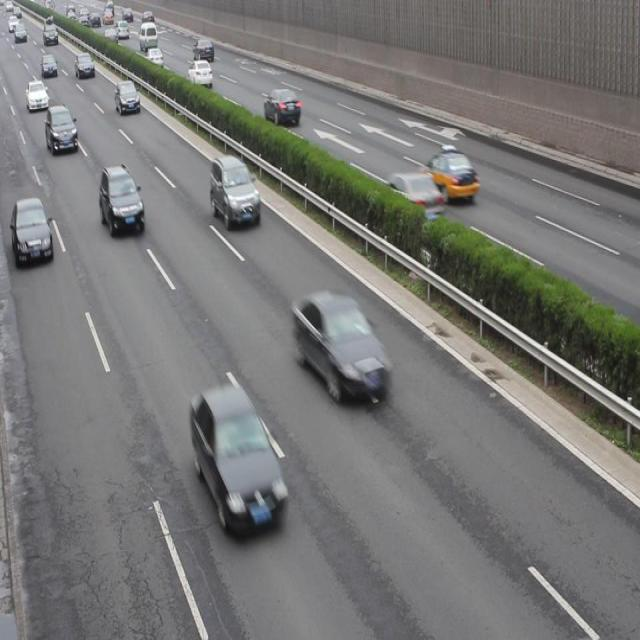car: (189, 380, 284, 536), (292, 288, 389, 403), (209, 153, 260, 227), (381, 169, 442, 229), (99, 164, 144, 237), (423, 148, 478, 205), (10, 196, 54, 263), (45, 104, 78, 154), (264, 87, 301, 126), (114, 80, 141, 116), (187, 60, 212, 88)
